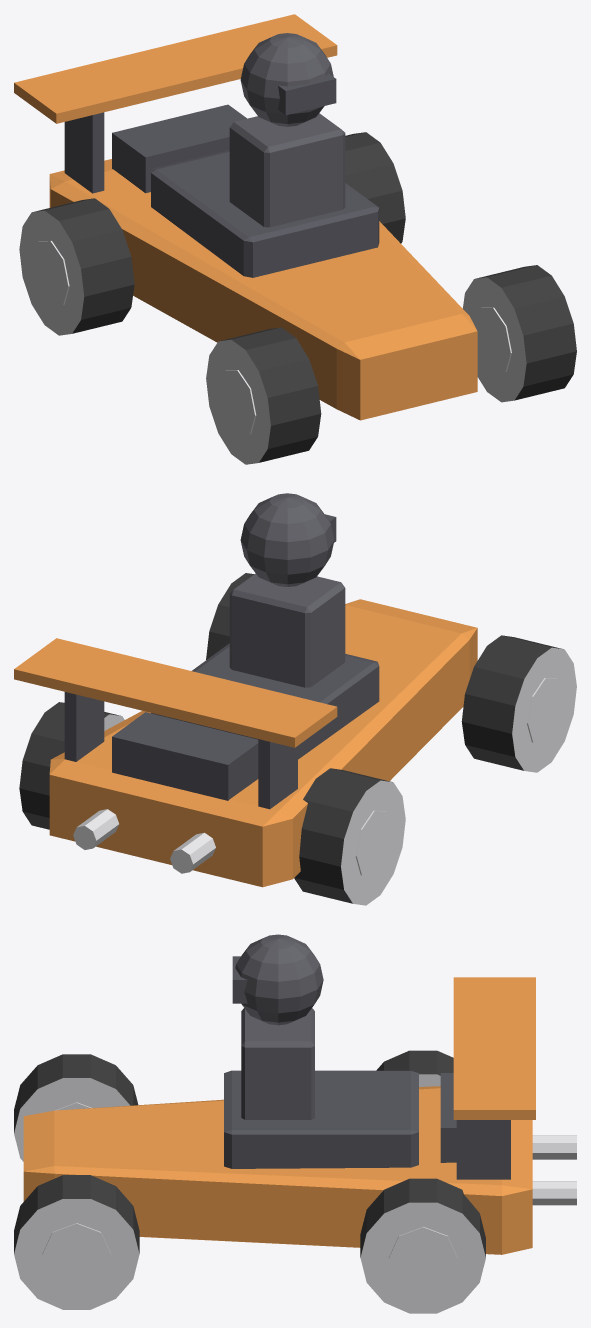
The model's file is ember.glb.
3 renders of one model, top to bottom at view 1: azimuth 30°, elevation 25°; view 2: azimuth 150°, elevation 25°; view 3: azimuth 270°, elevation 25°, orthographic. The views are drawn at different scales.
Visible parts, largest first — view 1: EMBER_BODY, WHEEL_FL, WHEEL_RL, WHEEL_FR, WHEEL_RR; view 2: EMBER_BODY, WHEEL_FL, WHEEL_RL, WHEEL_RR, WHEEL_FR; view 3: EMBER_BODY, WHEEL_FR, WHEEL_RR, WHEEL_FL, WHEEL_RL.
Boxes of the visible parts, bbox=[...] form: EMBER_BODY: bbox=[14, 14, 477, 420]; WHEEL_FL: bbox=[206, 327, 321, 464]; WHEEL_RL: bbox=[19, 198, 134, 335]; WHEEL_FR: bbox=[463, 265, 576, 402]; WHEEL_RR: bbox=[345, 132, 405, 243]; EMBER_BODY: bbox=[14, 493, 477, 887]; WHEEL_FL: bbox=[461, 635, 576, 772]; WHEEL_RL: bbox=[294, 768, 405, 905]; WHEEL_RR: bbox=[19, 702, 124, 829]; WHEEL_FR: bbox=[206, 573, 254, 659]; EMBER_BODY: bbox=[23, 934, 576, 1254]; WHEEL_FR: bbox=[14, 1175, 139, 1309]; WHEEL_RR: bbox=[360, 1178, 485, 1313]; WHEEL_FL: bbox=[14, 1054, 138, 1161]; WHEEL_RL: bbox=[376, 1050, 453, 1086].
Size of the model in its own units: 1.67 by 1.52 by 2.6.
